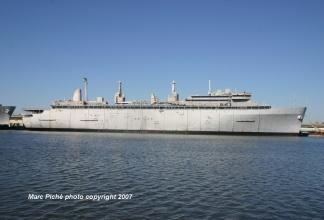warship: (15, 70, 312, 135)
